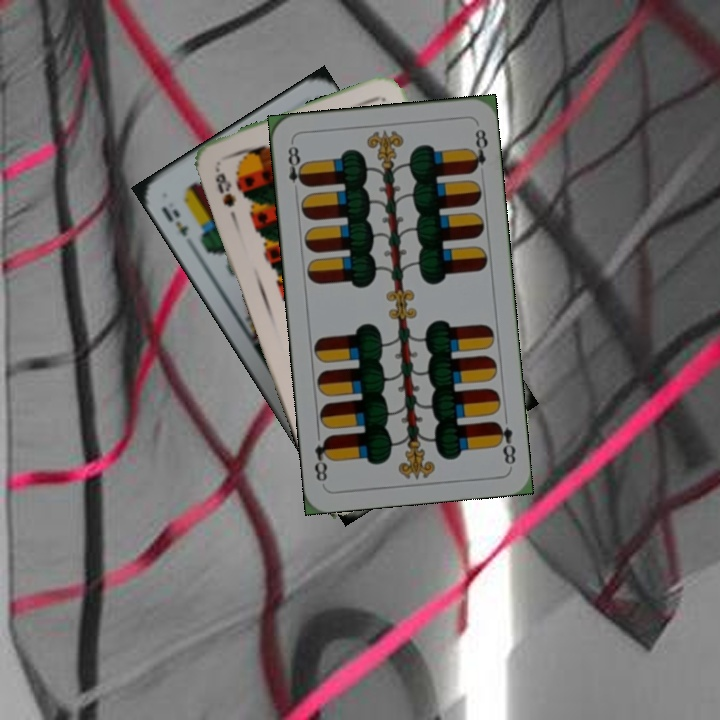E8: (490, 417, 519, 468), (284, 139, 309, 189)
EK: (157, 202, 192, 239)
S8: (211, 163, 239, 210)
